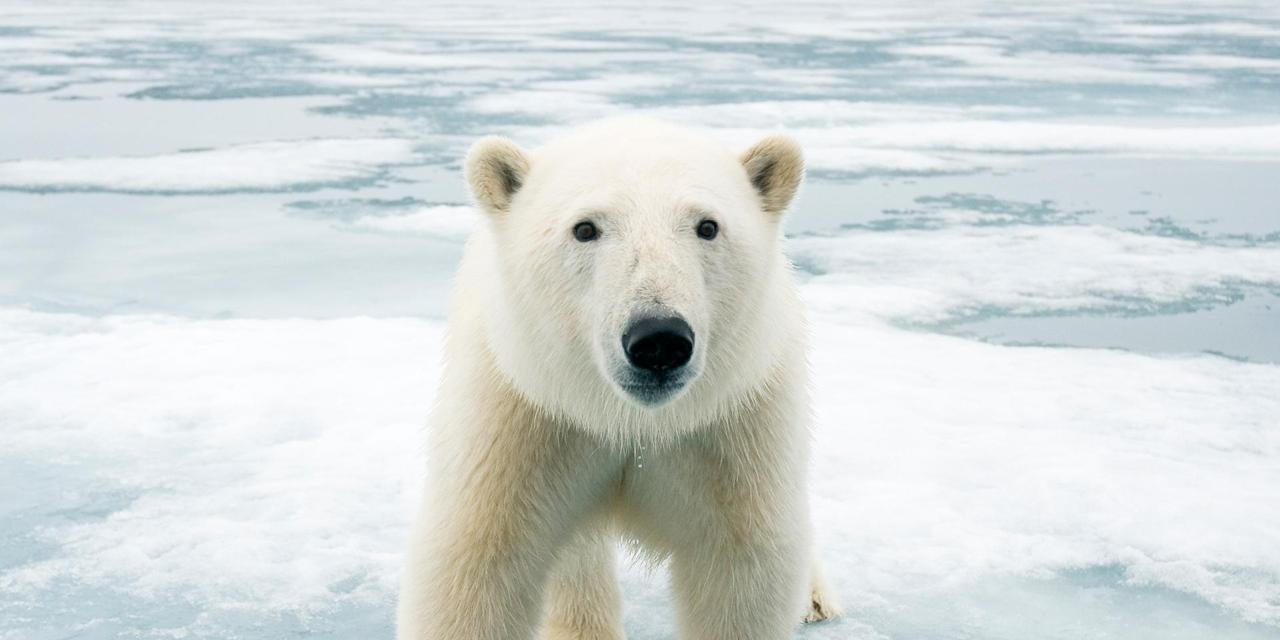Polar Bear: (380, 66, 856, 627)
